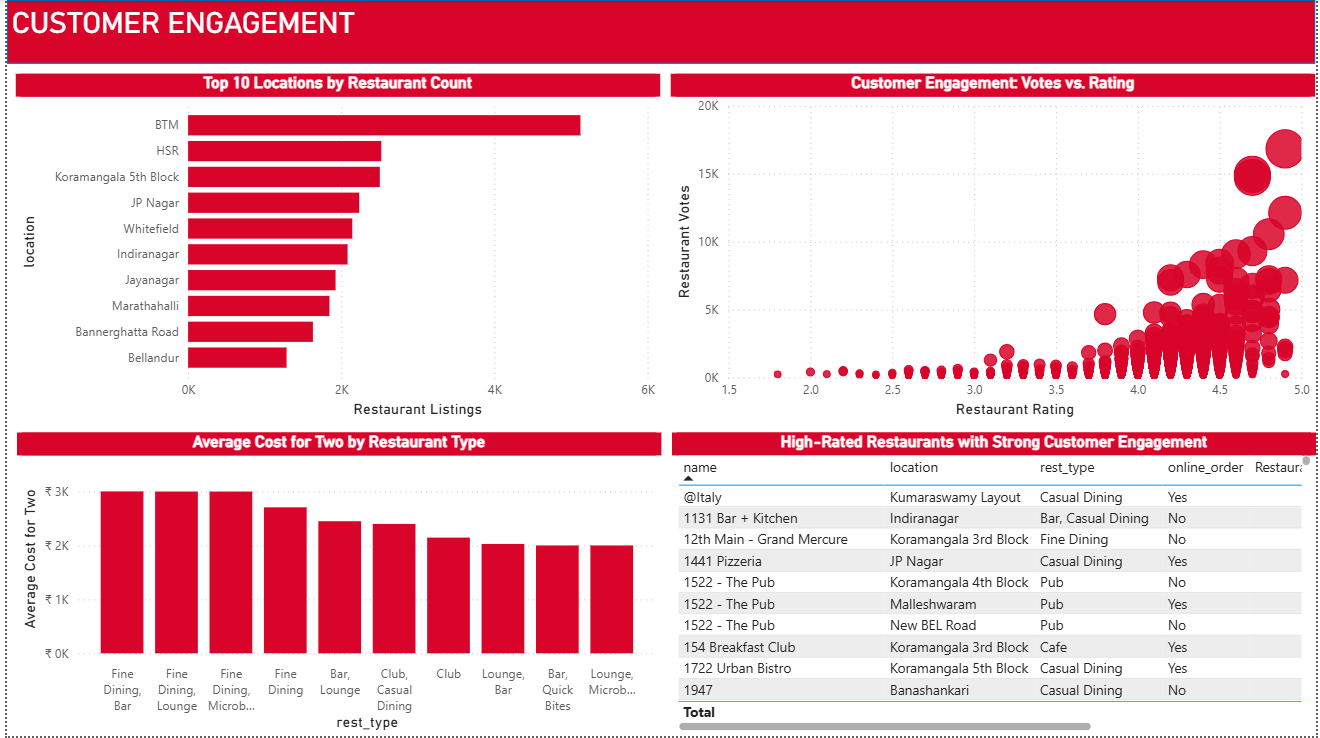

What the dashboard file says about the page in this screenshot:
{"tool":"powerbi","page":{"name":"Customer Engagement","canvas":[1280,720],"ordinal":4},"visuals":[{"type":"clusteredBarChart","title":"Top 10 Locations by Restaurant Count","fields":{"Category":["zomato_cleaned_final.location"],"Y":["zomato_cleaned_final.Total Restaurants"]},"box":[8.9,72.7,630.2,341.1],"z":0},{"type":"clusteredColumnChart","title":"Average Cost for Two by Restaurant Type","fields":{"Y":["zomato_cleaned_final.Average Cost for Two"],"Category":["zomato_cleaned_final.rest_type"]},"box":[10,423,630,297],"z":1000},{"type":"scatterChart","title":"Customer Engagement: Votes vs. Rating","fields":{"X":["zomato_cleaned_final.Restaurant Rating"],"Category":["zomato_cleaned_final.name"],"Y":["zomato_cleaned_final.Restaurant Votes"],"Size":["zomato_cleaned_final.Restaurant Votes"]},"box":[649.5,72.7,630.2,341.1],"z":2000},{"type":"tableEx","title":"High-Rated Restaurants with Strong Customer Engagement","fields":{"Values":["zomato_cleaned_final.name","zomato_cleaned_final.location","zomato_cleaned_final.rest_type","zomato_cleaned_final.online_order","zomato_cleaned_final.Restaurant Rating","zomato_cleaned_final.Restaurant Votes","zomato_cleaned_final.Average Cost for Two"]},"box":[650,423,630,297],"z":3000},{"type":"shape","title":"CUSTOMER ENGAGEMENT","box":[0,0,1279.7,62.3],"z":7000},{"type":"textbox","box":[0,0,1279.7,62.3],"z":8000}]}

Visuals, with their boxes in screenshot pixels (x1, y1, x2, y2), scaled from the page's 1280x720 canvas onto the 1320x738 screenshot:
"Top 10 Locations by Restaurant Count" clusteredBarChart: <bbox>9, 75, 659, 424</bbox>
"Average Cost for Two by Restaurant Type" clusteredColumnChart: <bbox>10, 434, 660, 737</bbox>
"Customer Engagement: Votes vs. Rating" scatterChart: <bbox>670, 75, 1319, 424</bbox>
"High-Rated Restaurants with Strong Customer Engagement" tableEx: <bbox>670, 434, 1319, 737</bbox>
"CUSTOMER ENGAGEMENT" shape: <bbox>0, 0, 1319, 64</bbox>
textbox: <bbox>0, 0, 1319, 64</bbox>
